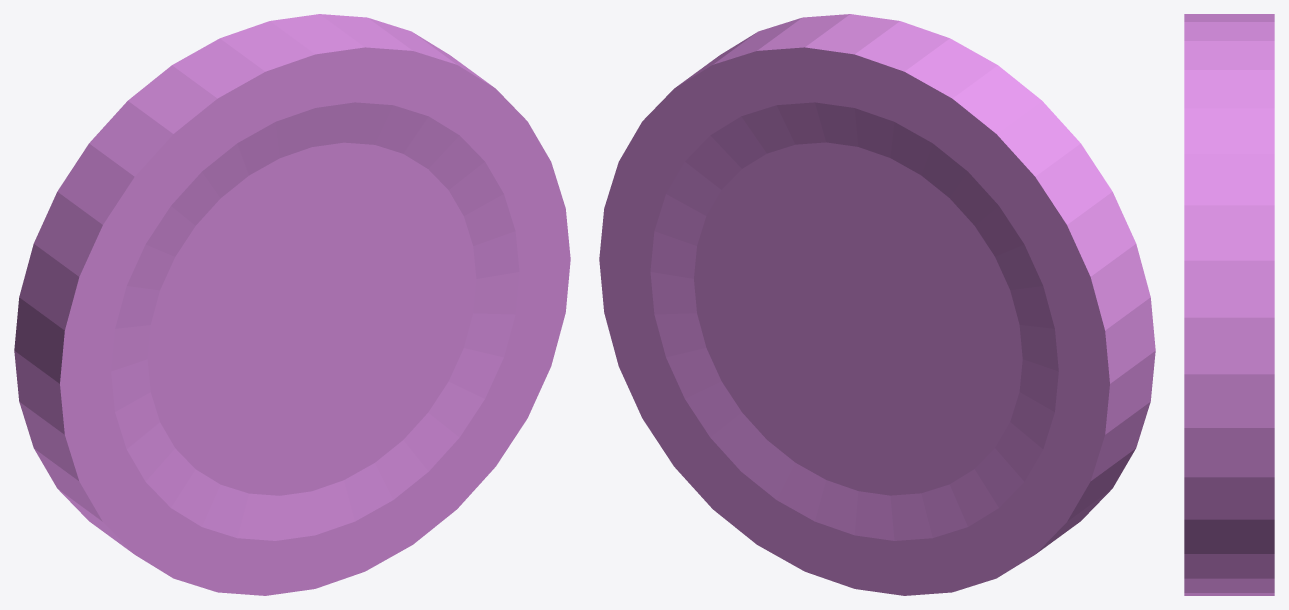
Rendered from Moneda.fbx.
3 renders of one model, left to right at view 1: azimuth 30°, elevation 25°; view 2: azimuth 150°, elevation 25°; view 3: azimuth 270°, elevation 25°, orthographic.
Visible parts, largest first — view 1: Cylinder; view 2: Cylinder; view 3: Cylinder.
Boxes of the visible parts, box(x1,y1,x2,y2) form: Cylinder: box(14, 14, 570, 595); Cylinder: box(599, 14, 1155, 595); Cylinder: box(1184, 14, 1274, 595).
Bounding box in the file's own units: 200 × 200 × 30.97.
